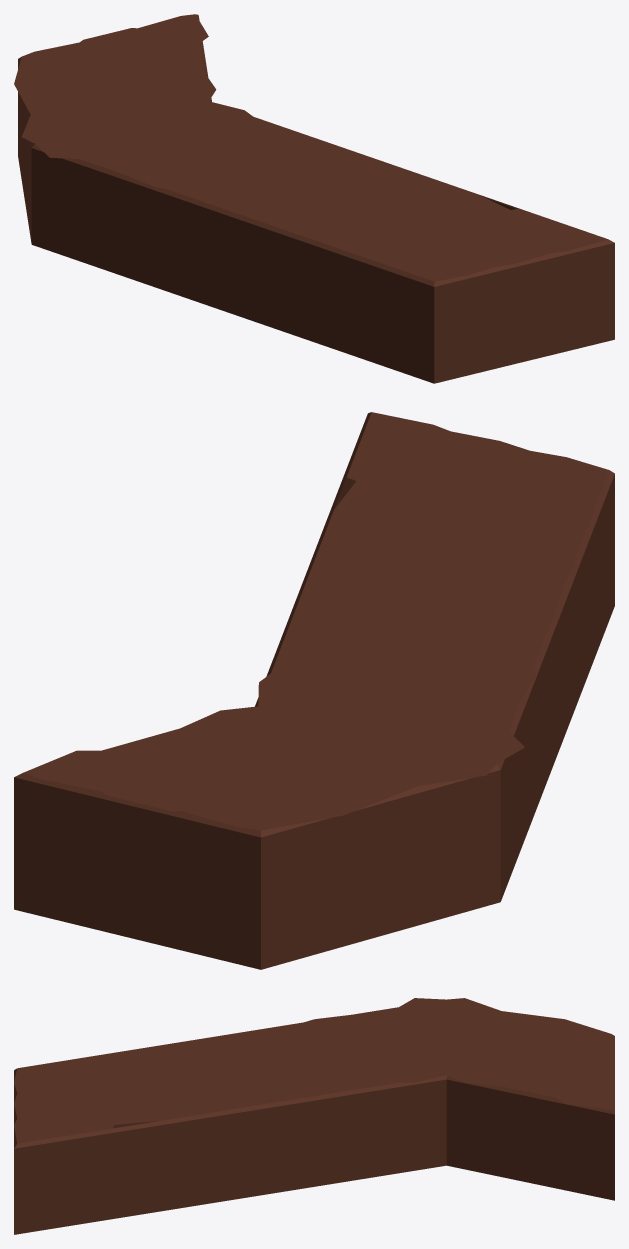
The model's file is mahsulot.glb.
3 renders of one model, top to bottom at view 1: azimuth 30°, elevation 25°; view 2: azimuth 150°, elevation 25°; view 3: azimuth 270°, elevation 25°, orthographic. The views are drawn at different scales.
Parts seen in each view (by area): view 1: mahsulot_A; view 2: mahsulot_A; view 3: mahsulot_A.
Part boxes in pixels (box(x1,y1,x2,y2)): mahsulot_A: box(14, 14, 614, 383); mahsulot_A: box(14, 412, 614, 969); mahsulot_A: box(14, 998, 614, 1234).
Size of the model in its own units: 0.16 by 0.045 by 0.275.
